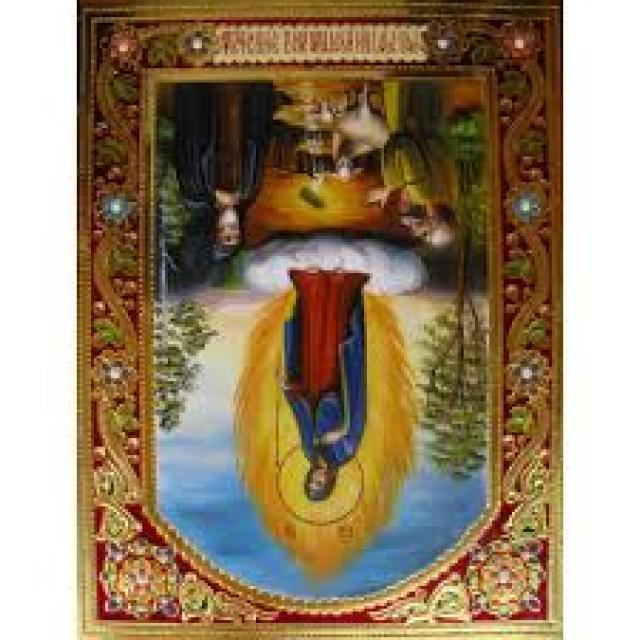mother of god: (260, 258, 382, 528)
